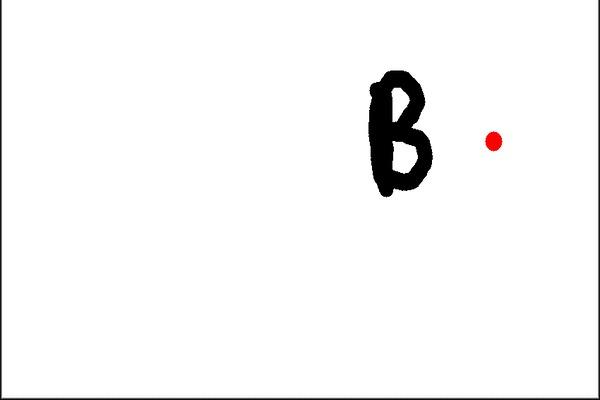B: (348, 59, 444, 197)
